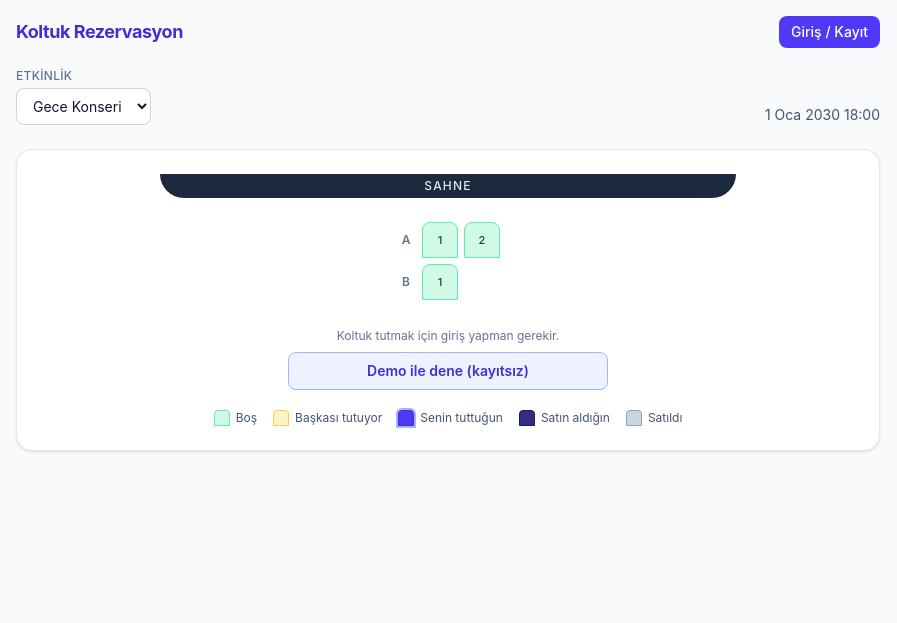
Scenario: koltuk tutma ve onaylama akışı › giriş yapmamış ziyaretçi haritadaki demo düğmesiyle tek tıkta girer ve hemen koltuk tutabilir
The width and height of the screenshot is (897, 623).
Expected: the button named "A1, boş" is shown, [422,222,458,258]
What coordinates should you click on to do the following:
click the button "Demo ile dene (kayıtsız)"
I would click on:
 (448, 371)
Its box is [288,352,608,390].
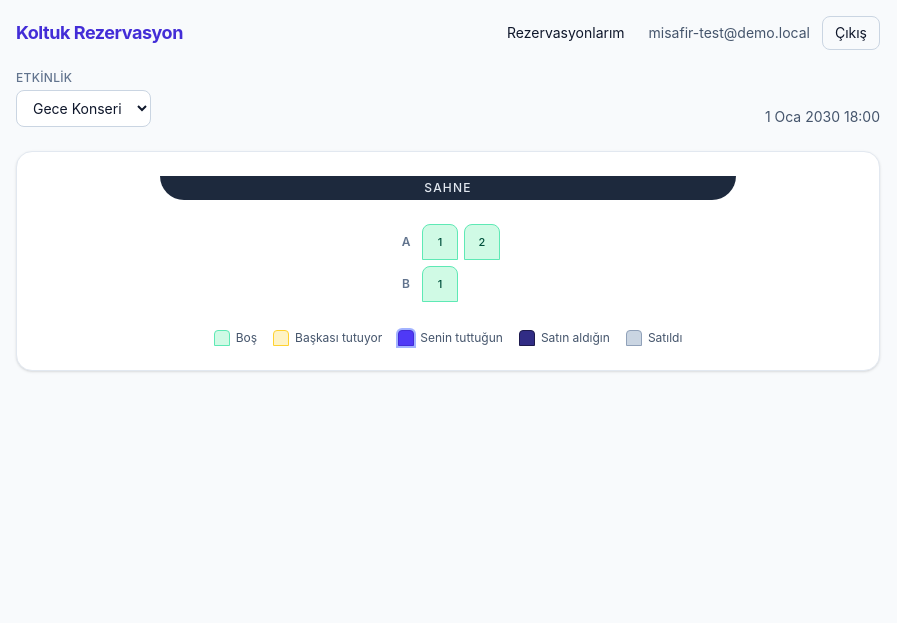
Now the text "misafir-test@demo.local" is shown, box [649,23,810,43]
What coordinates should you click on to do the following:
click the button named "A1, boş"
I would click on:
 (440, 242)
Its box is [422,224,458,260].
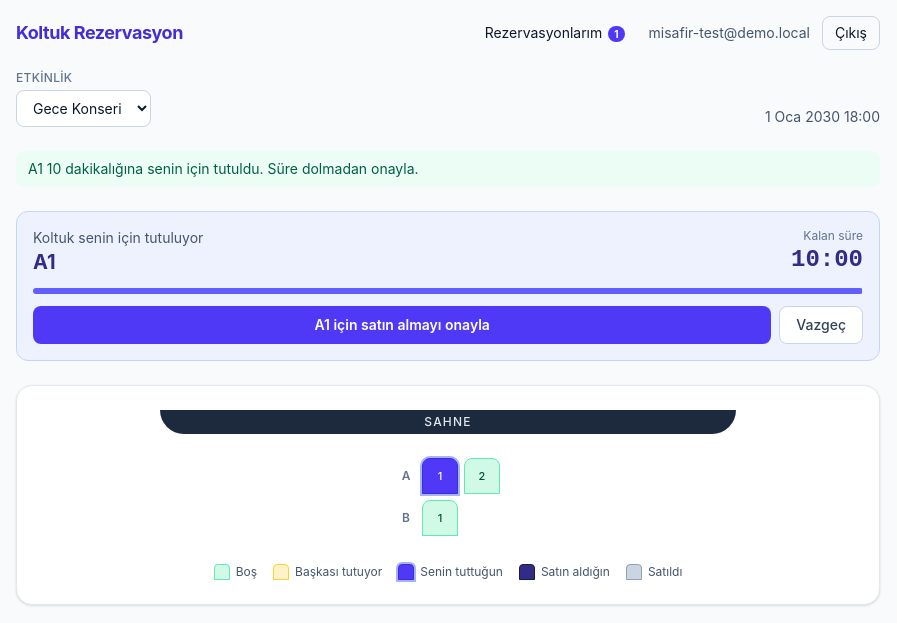
Now the text named "A1 için kalan süre" is shown, box [791,244,863,276]
